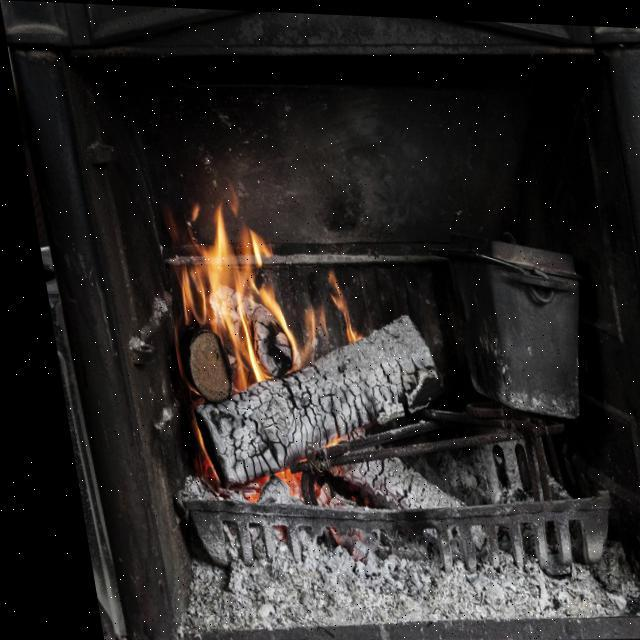Fire: (130, 136, 353, 392)
